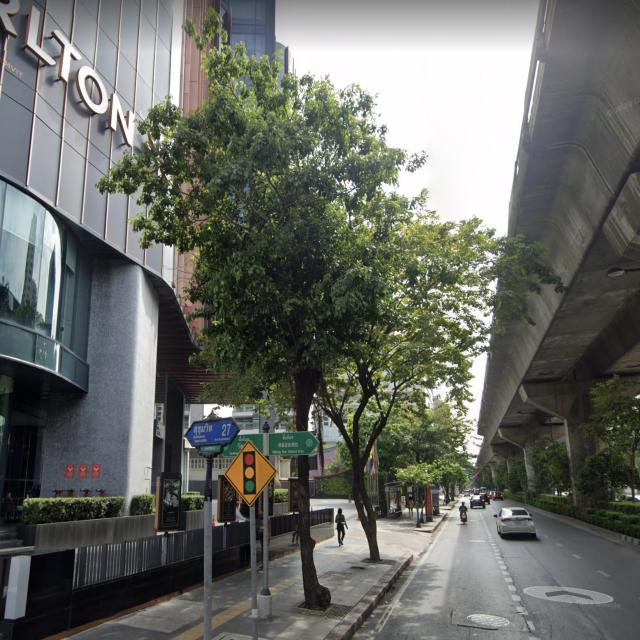tree: (116, 9, 356, 617), (312, 182, 510, 570), (363, 362, 479, 525)
